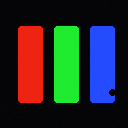0 point: (109, 89, 115, 95)
